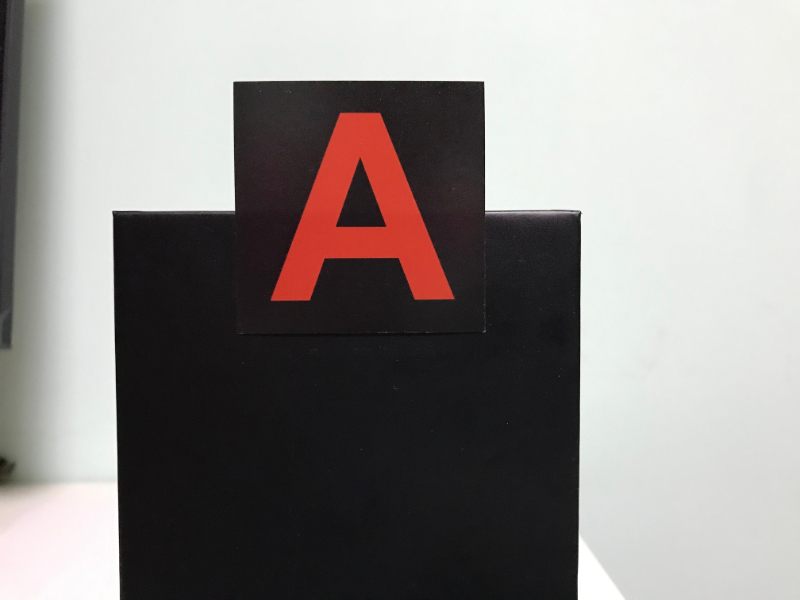A-11: (239, 84, 484, 330)
